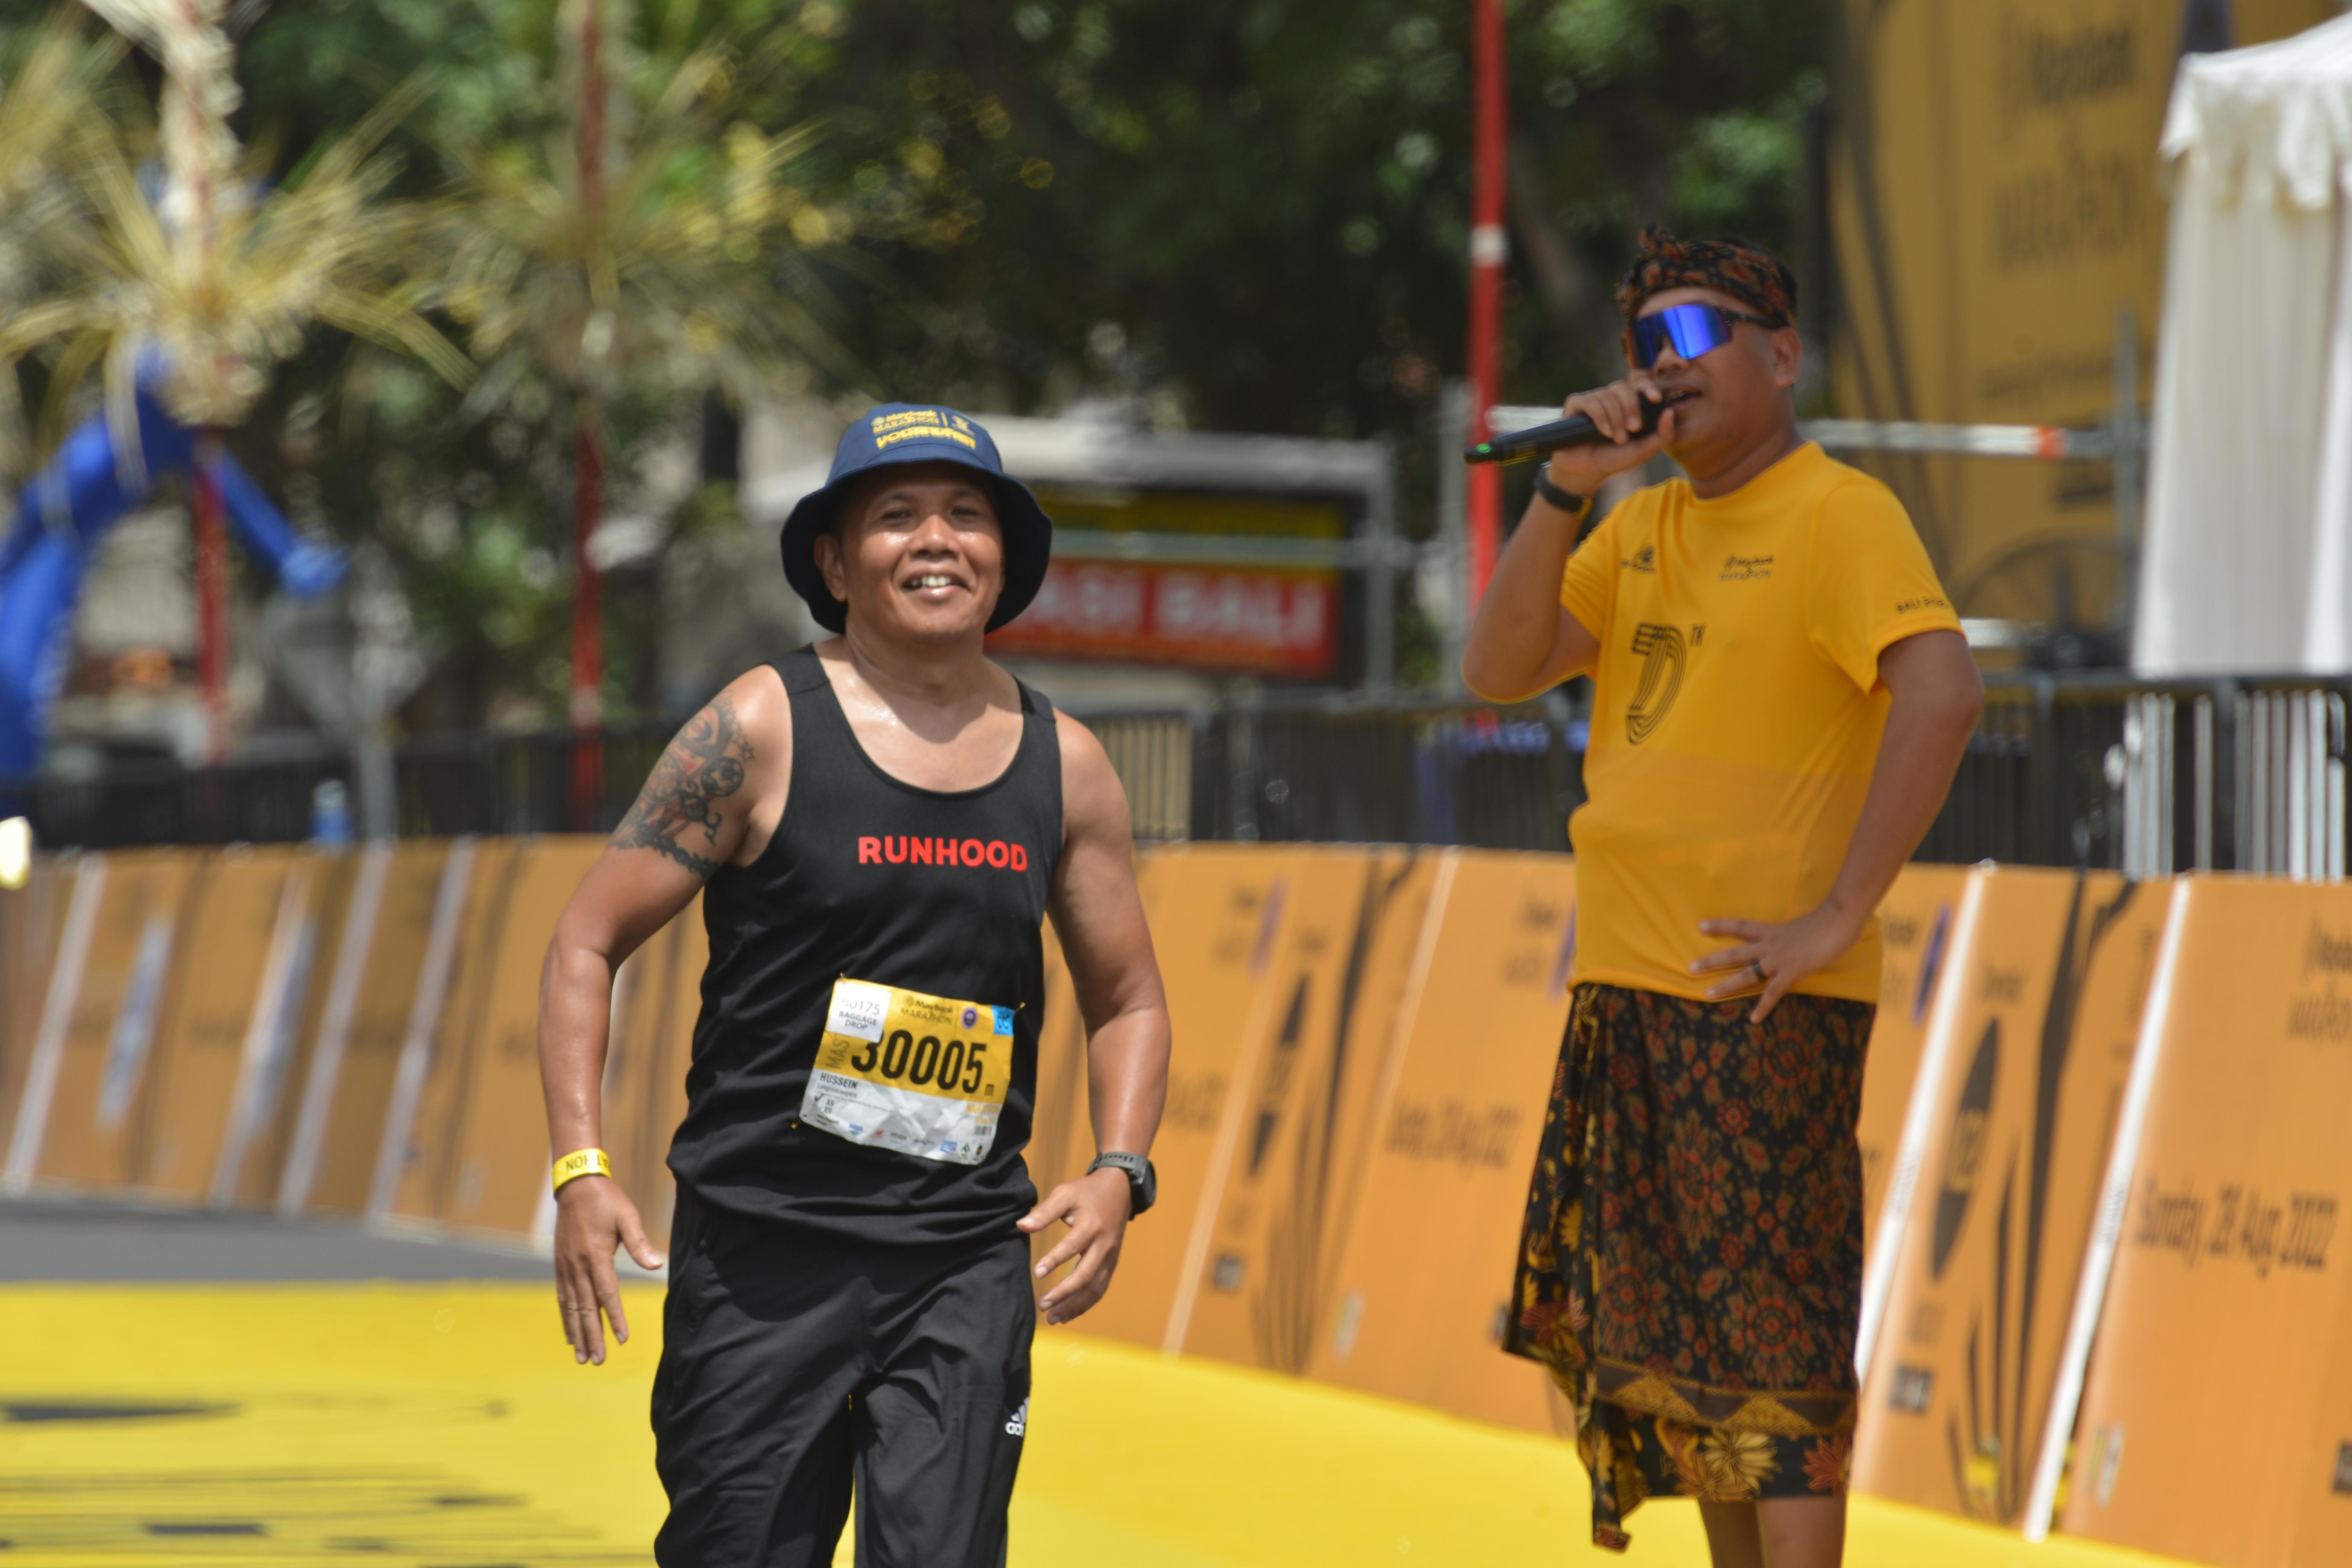bib: (801, 982, 1011, 1160)
